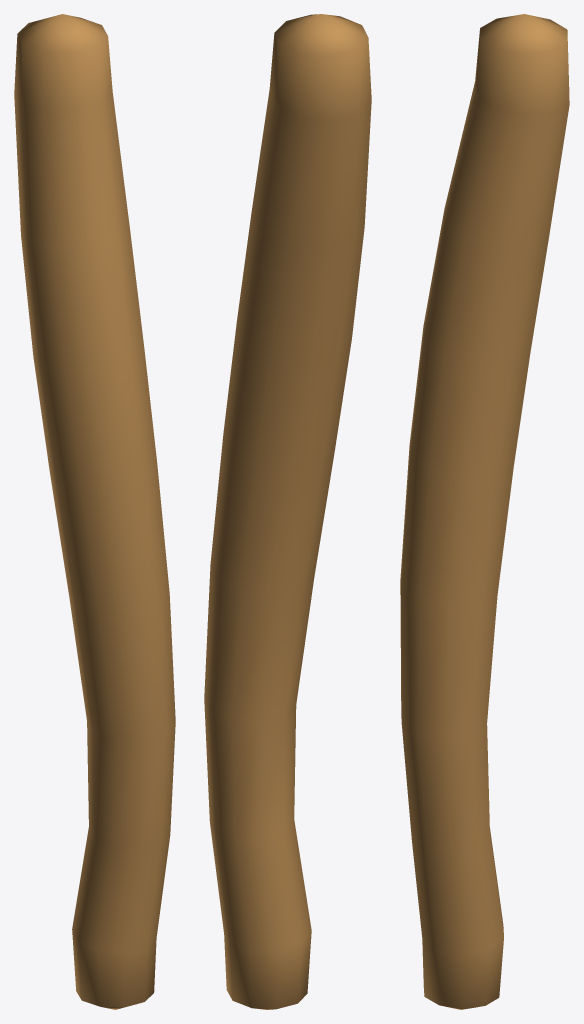
Rendered from tibia_T3_right_leg.obj.
The picture shows the model from 3 angles, left to right: view 1: azimuth 30°, elevation 25°; view 2: azimuth 210°, elevation 25°; view 3: azimuth 270°, elevation 25°; orthographic projection. The views are drawn at different scales.
Bounding box in the file's own units: 0.00961 × 0.0774 × 0.012.
